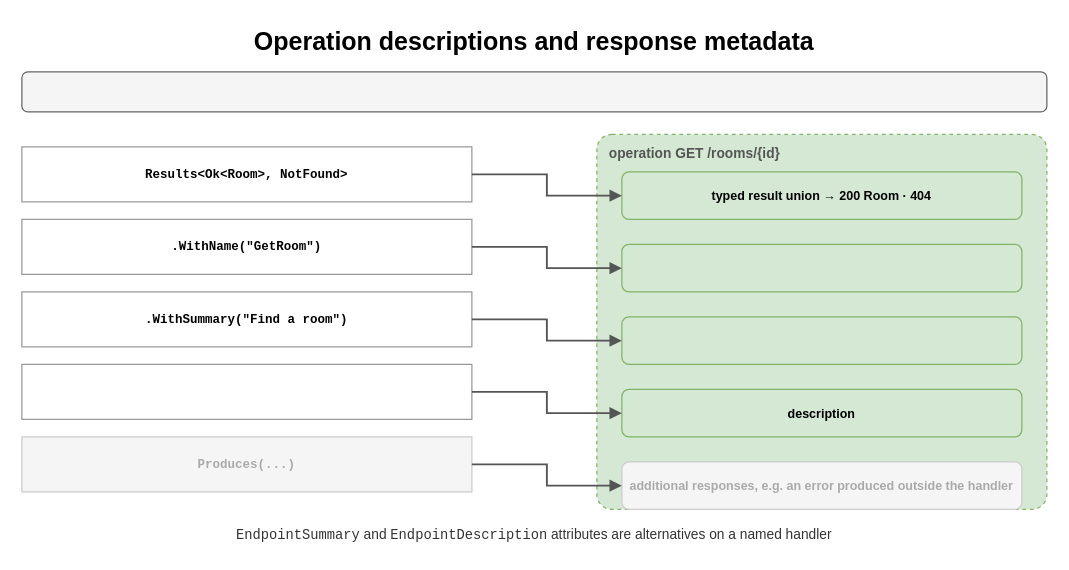
This 1069x570 diagram has some shape labels left out. The box of each missing label's shape, as (x1, y1, x2, y2) in pixels:
.WithDescription("Returns the room ..."): (21, 363, 472, 419)
Metadata describes the contract; it does not change runtime behavior: (21, 71, 1047, 112)
operationId (unique route name): (621, 243, 1022, 292)
summary: (621, 316, 1022, 364)
